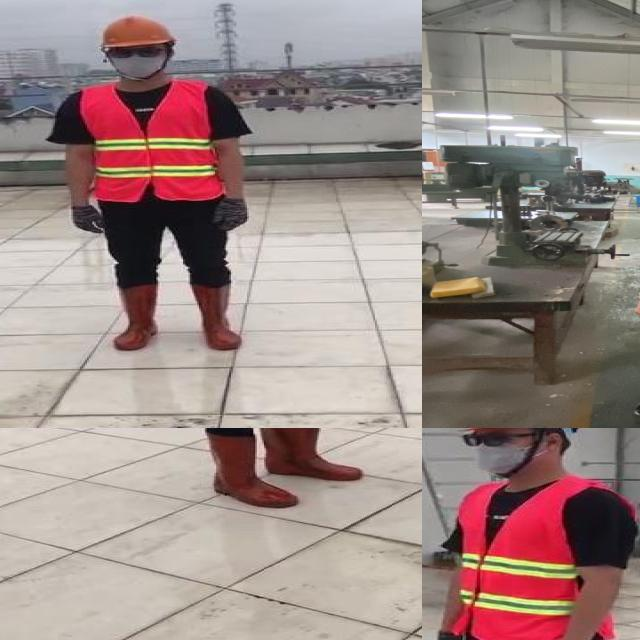boots: (186, 282, 248, 351), (110, 283, 160, 350)
face_mask: (456, 430, 533, 476), (106, 44, 164, 78)
glasses: (457, 428, 524, 450), (105, 45, 167, 61)
hand_glove: (205, 428, 301, 512), (261, 428, 367, 482), (69, 207, 110, 234), (215, 200, 249, 231), (428, 632, 466, 640)
hand_noglove: (629, 299, 640, 319)
head_helmet: (97, 14, 173, 48)
person: (48, 14, 256, 364), (424, 428, 640, 640), (159, 428, 370, 516)
vest: (448, 479, 636, 640), (80, 83, 220, 202)
